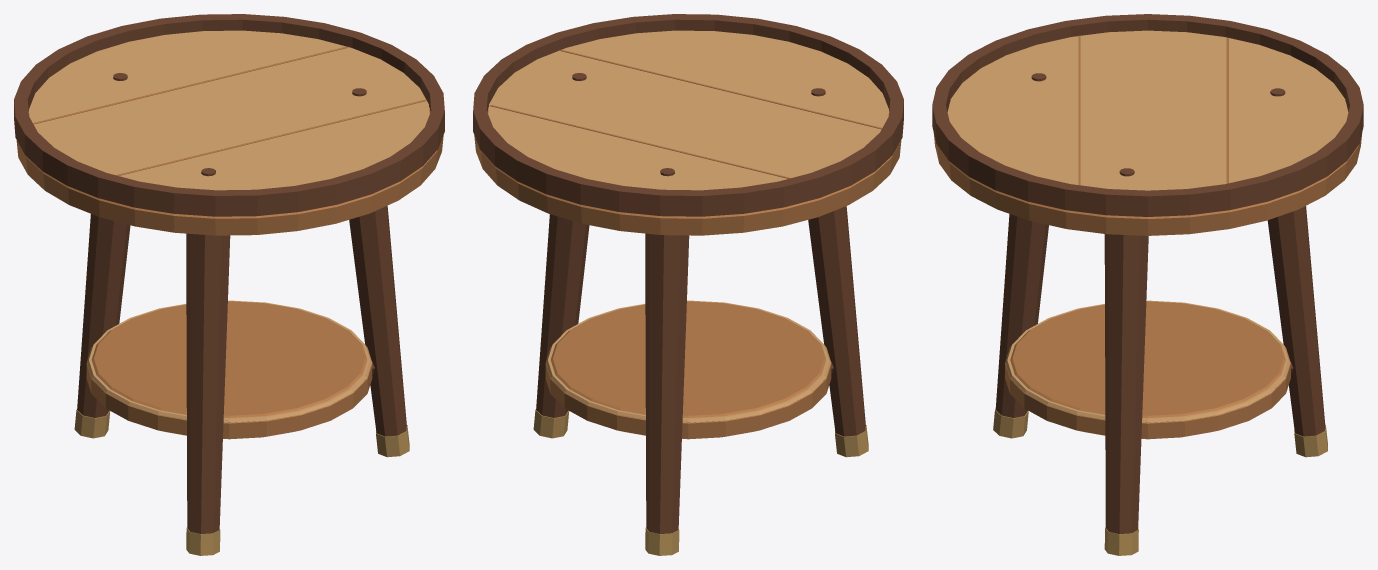
The model's file is 004_round_side_table_v01.glb.
3 views of the same model, side by side, from view 1: azimuth 30°, elevation 25°; view 2: azimuth 150°, elevation 25°; view 3: azimuth 270°, elevation 25° (orthographic).
Visible parts, largest first — view 1: 004 inset tray surface, 004 round lower display shelf, 004 raised tray lip, 004 splayed leg 1, 004 round solid walnut tabletop, 004 splayed leg 0, 004 splayed leg 2, 004 lower shelf rounded edge, 004 brass leg shoe 1, 004 brass leg shoe 2, 004 delicate tabletop plank seam, 004 brass leg shoe 0 (+1 smaller); view 2: 004 inset tray surface, 004 round lower display shelf, 004 raised tray lip, 004 splayed leg 2, 004 round solid walnut tabletop, 004 splayed leg 1, 004 splayed leg 0, 004 lower shelf rounded edge, 004 brass leg shoe 2, 004 delicate tabletop plank seam.001, 004 brass leg shoe 0, 004 brass leg shoe 1 (+1 smaller); view 3: 004 inset tray surface, 004 round lower display shelf, 004 raised tray lip, 004 splayed leg 0, 004 round solid walnut tabletop, 004 splayed leg 2, 004 splayed leg 1, 004 lower shelf rounded edge, 004 brass leg shoe 0, 004 brass leg shoe 1, 004 brass leg shoe 2.
Part boxes in pixels (bbox=[...]): 004 inset tray surface: bbox=[29, 30, 429, 190]; 004 round lower display shelf: bbox=[86, 301, 372, 439]; 004 raised tray lip: bbox=[14, 14, 444, 216]; 004 splayed leg 1: bbox=[186, 233, 230, 533]; 004 round solid walnut tabletop: bbox=[16, 107, 443, 235]; 004 splayed leg 0: bbox=[349, 205, 406, 436]; 004 splayed leg 2: bbox=[77, 214, 130, 417]; 004 lower shelf rounded edge: bbox=[87, 300, 371, 422]; 004 brass leg shoe 1: bbox=[186, 527, 220, 555]; 004 brass leg shoe 2: bbox=[74, 409, 110, 438]; 004 delicate tabletop plank seam: bbox=[33, 46, 347, 124]; 004 brass leg shoe 0: bbox=[376, 425, 409, 457]; 004 inset tray surface: bbox=[488, 30, 888, 190]; 004 round lower display shelf: bbox=[545, 301, 831, 439]; 004 raised tray lip: bbox=[473, 14, 903, 216]; 004 splayed leg 2: bbox=[645, 233, 689, 533]; 004 round solid walnut tabletop: bbox=[474, 107, 901, 235]; 004 splayed leg 1: bbox=[808, 206, 865, 436]; 004 splayed leg 0: bbox=[536, 214, 589, 417]; 004 lower shelf rounded edge: bbox=[546, 300, 830, 422]; 004 brass leg shoe 2: bbox=[645, 527, 679, 555]; 004 delicate tabletop plank seam.001: bbox=[560, 49, 882, 129]; 004 brass leg shoe 0: bbox=[533, 409, 569, 438]; 004 brass leg shoe 1: bbox=[835, 425, 868, 457]; 004 inset tray surface: bbox=[947, 30, 1348, 190]; 004 round lower display shelf: bbox=[1005, 301, 1290, 439]; 004 raised tray lip: bbox=[932, 14, 1363, 216]; 004 splayed leg 0: bbox=[1104, 234, 1148, 533]; 004 round solid walnut tabletop: bbox=[933, 104, 1362, 235]; 004 splayed leg 2: bbox=[1267, 206, 1325, 436]; 004 splayed leg 1: bbox=[995, 214, 1048, 417]; 004 lower shelf rounded edge: bbox=[1005, 300, 1290, 422]; 004 brass leg shoe 0: bbox=[1104, 527, 1138, 555]; 004 brass leg shoe 1: bbox=[993, 409, 1028, 438]; 004 brass leg shoe 2: bbox=[1294, 425, 1327, 457].
Bounding box in the file's own units: 0.758 × 0.7232 × 0.758.
